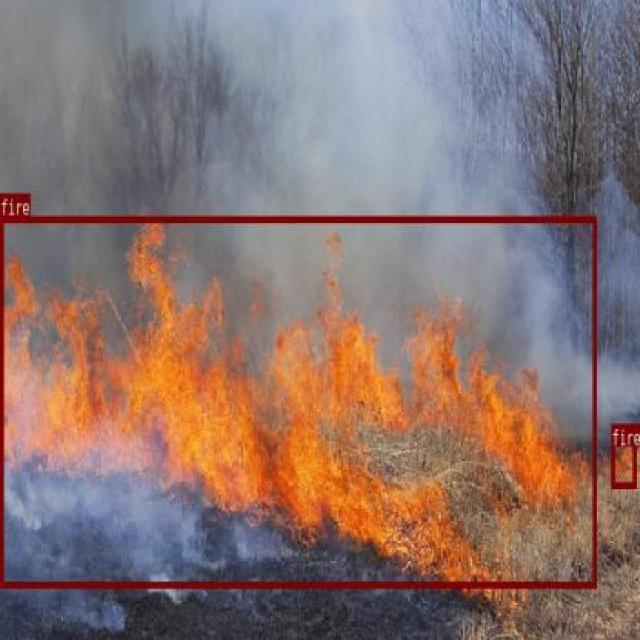fire: (0, 215, 595, 584), (612, 423, 636, 488)
